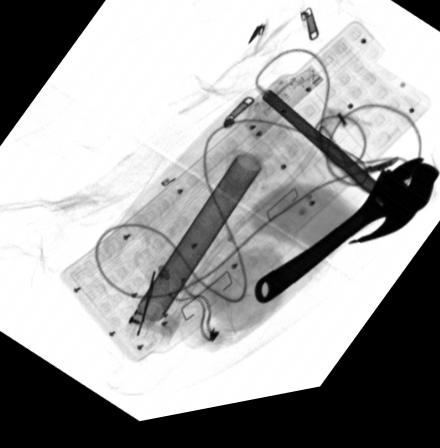Hammer: (260, 98, 438, 256)
Wrench: (253, 176, 429, 313)
